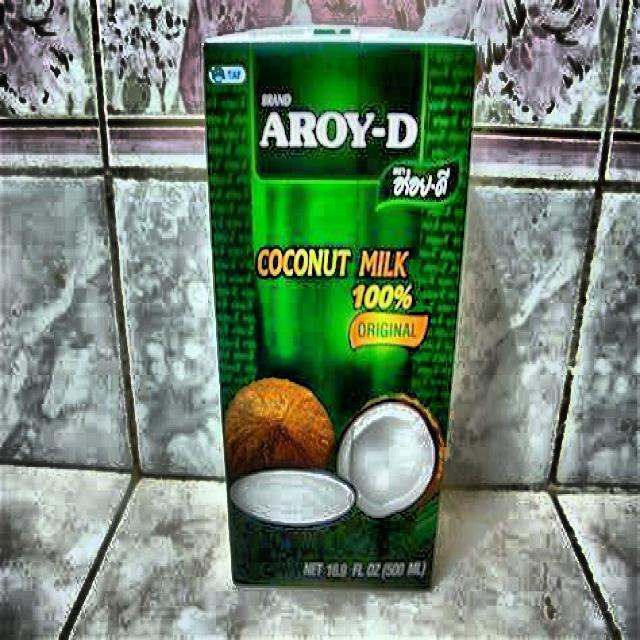cardboard: (201, 25, 478, 590)
